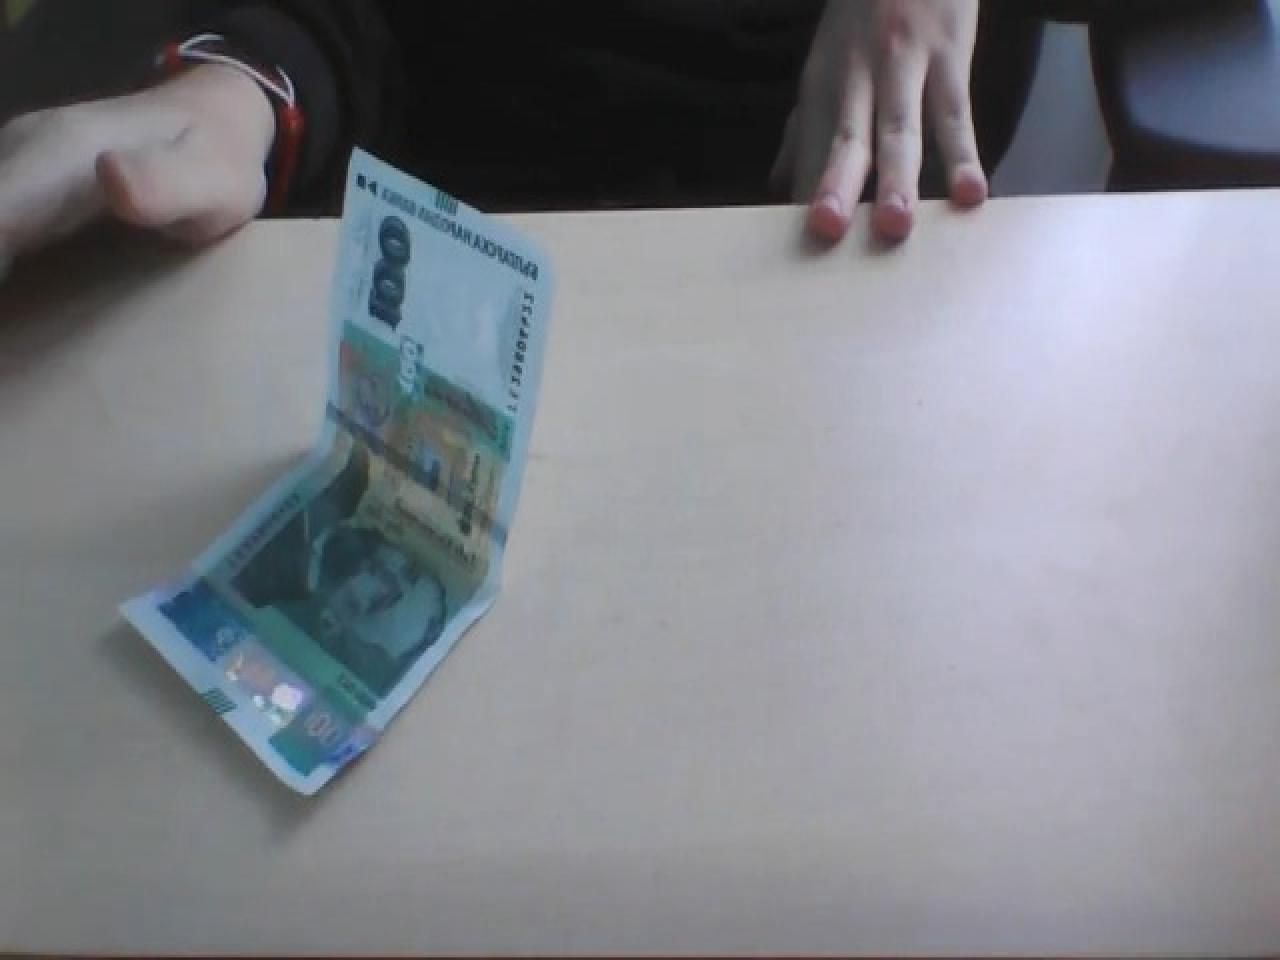100leva: (118, 147, 554, 801)
